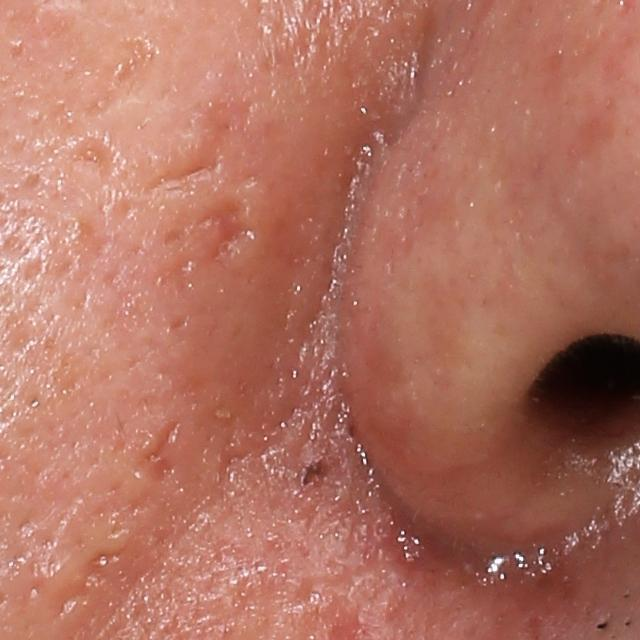atrophic_scar: (83, 35, 153, 123), (136, 151, 232, 200), (124, 420, 184, 494), (193, 193, 249, 264), (66, 131, 115, 177), (51, 582, 91, 619)
nevus: (300, 451, 327, 484)
